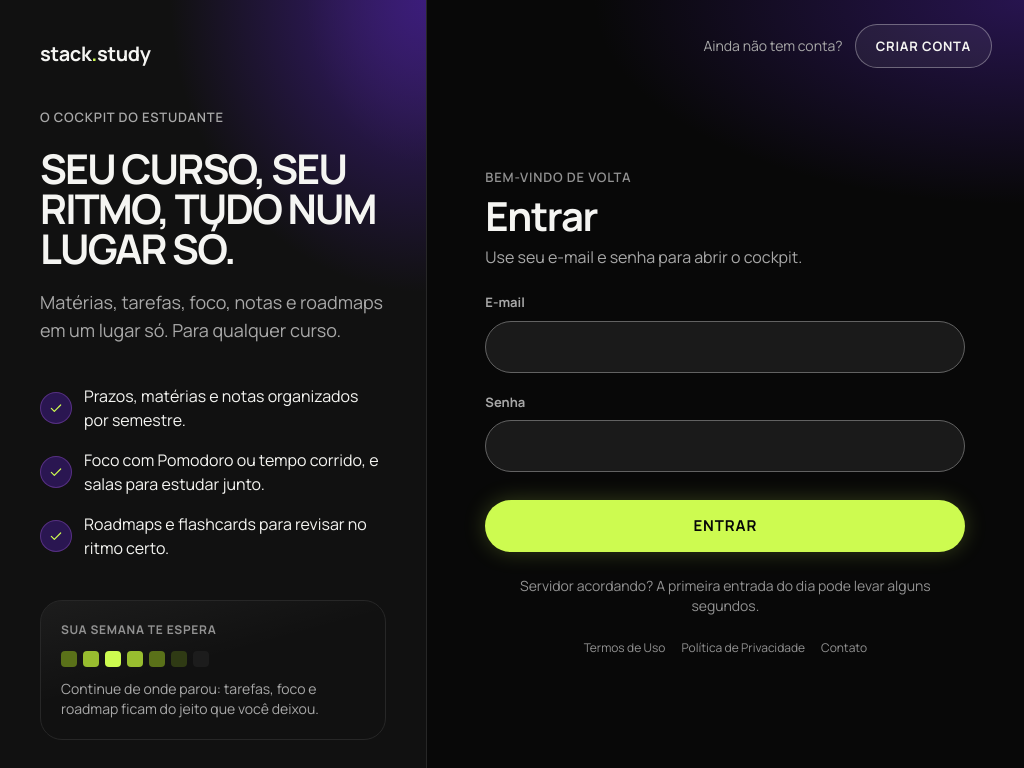
it: auth flow (UI) › logs in and lands on the app shell
Type "ada@example.com" into the field labelled "E-mail".
click(725, 347); type("ada@example.com")  # box 485,321 -> 965,373
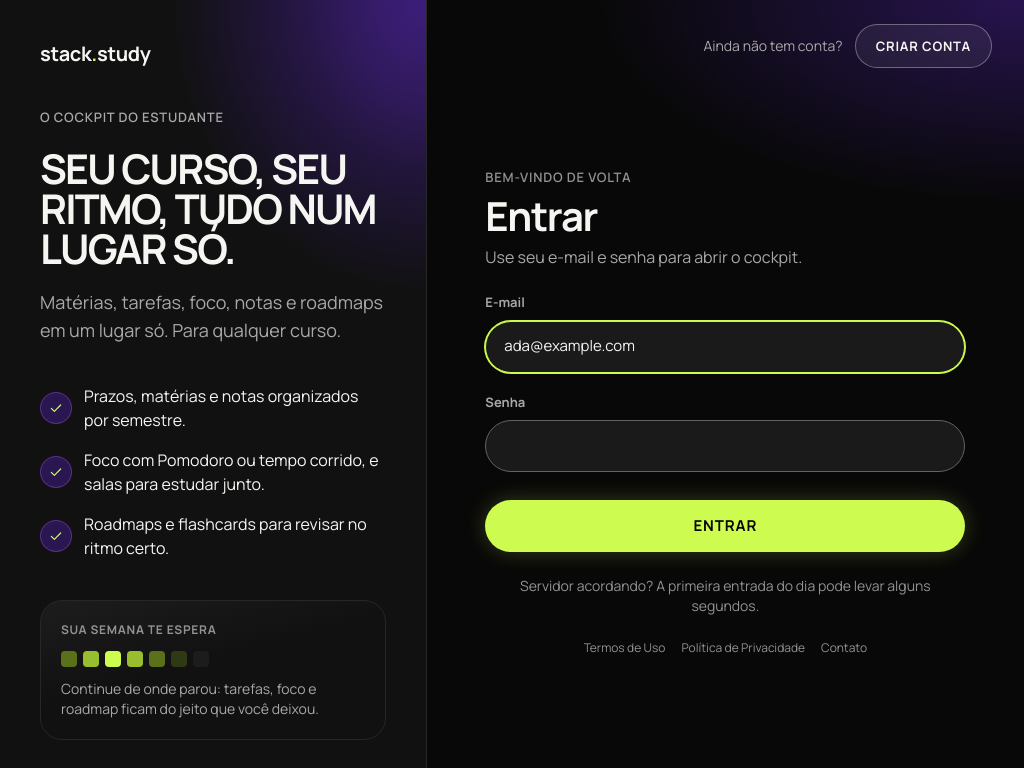
Type "correct-horse" into the password field labelled "Senha".
click(725, 446); type("correct-horse")  # box 485,420 -> 965,472
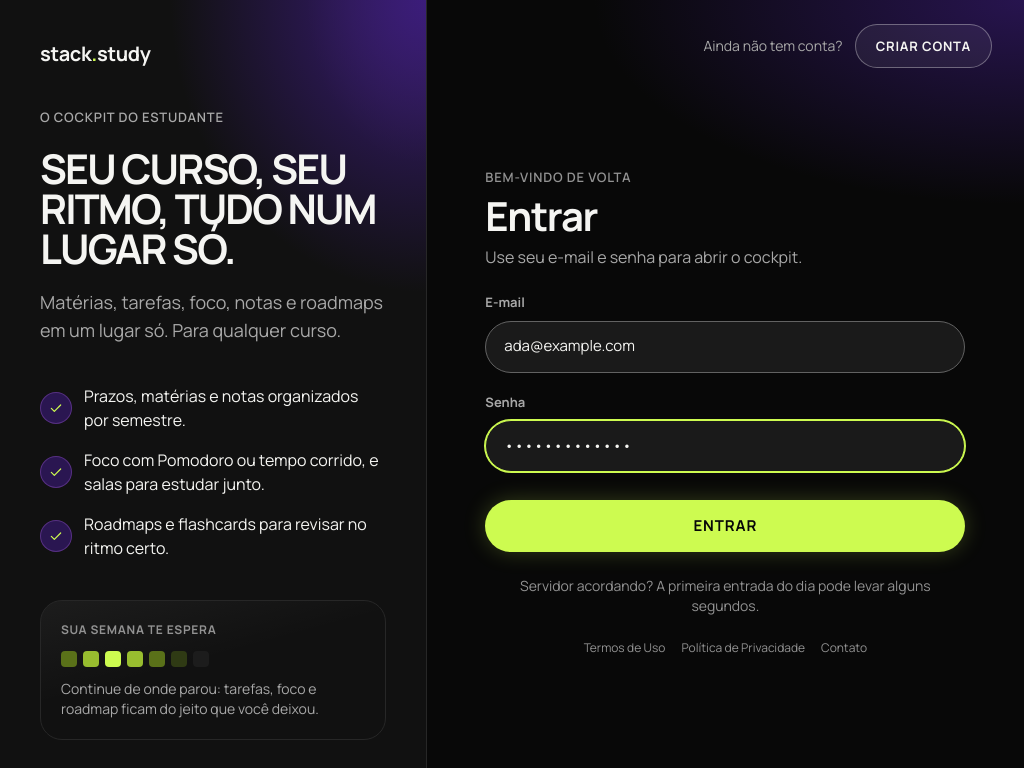
Click the button "Entrar".
click(725, 526)  # box 485,500 -> 965,552
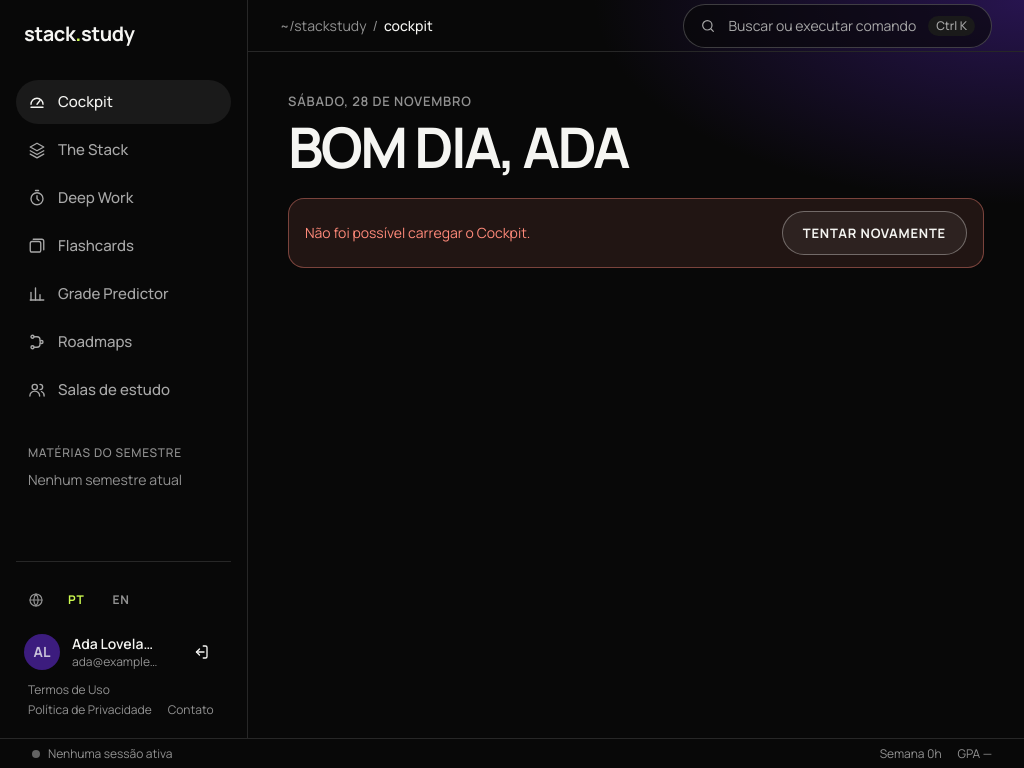
Result: the heading "Bom dia, Ada" is shown at 288,120 -> 628,174
Result: the navigation bar named "Navegação principal" is shown at 16,80 -> 231,412
Result: the text "Nenhuma sessão ativa" is shown at 48,746 -> 172,762
